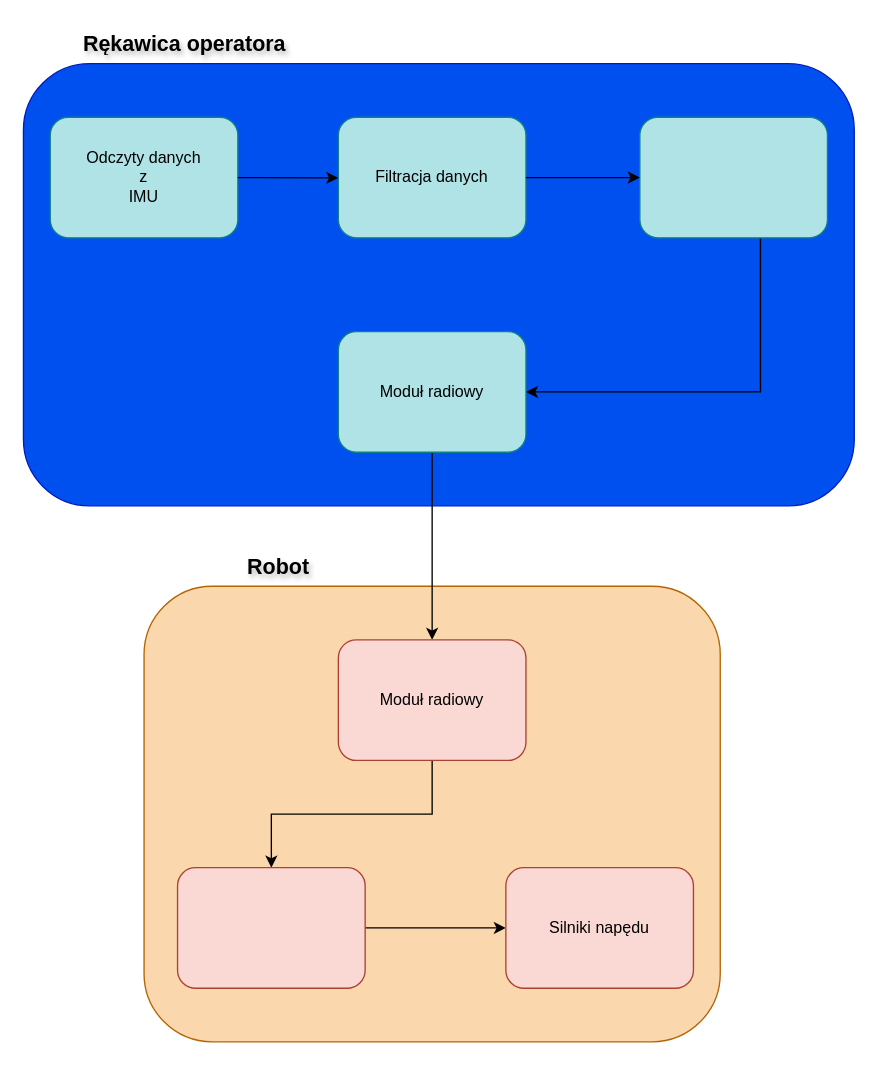
Image size: 878x1065. Some labels were removed from this diagram. Here are the shapes that lost their labels. From the top down, the box of each, then its label:
(639, 116, 827, 238): Przeliczenie danych na Wektor 2D
(176, 866, 365, 988): Sterowniki Robota
